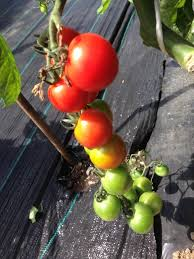tomato: (64, 35, 119, 90), (47, 74, 96, 109), (73, 112, 112, 151), (88, 136, 126, 170)
